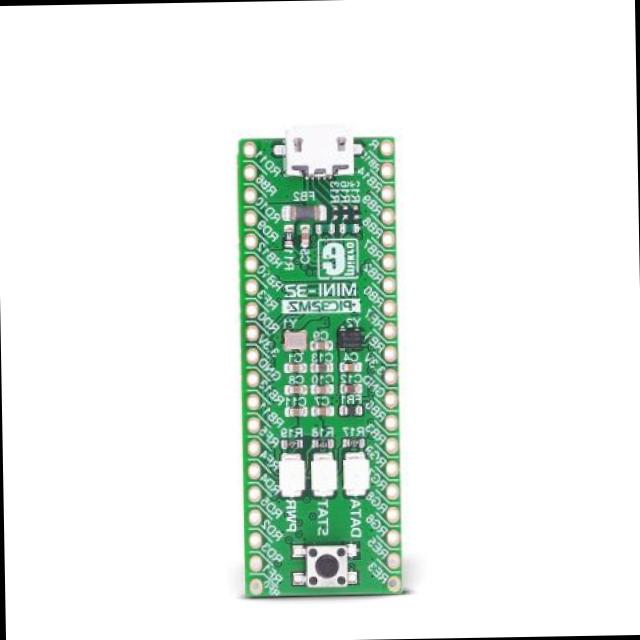LED: (342, 456, 371, 494), (276, 459, 305, 494), (310, 457, 338, 491)
capacitor: (285, 406, 307, 416), (341, 362, 360, 373), (312, 405, 330, 416), (314, 362, 332, 373), (299, 228, 311, 244), (286, 385, 304, 395), (314, 384, 330, 394), (288, 363, 304, 371), (344, 384, 359, 392), (314, 342, 330, 349)
connector: (280, 126, 357, 178)
resistor: (283, 229, 293, 244), (352, 207, 359, 217), (341, 206, 348, 216), (331, 206, 338, 216)
